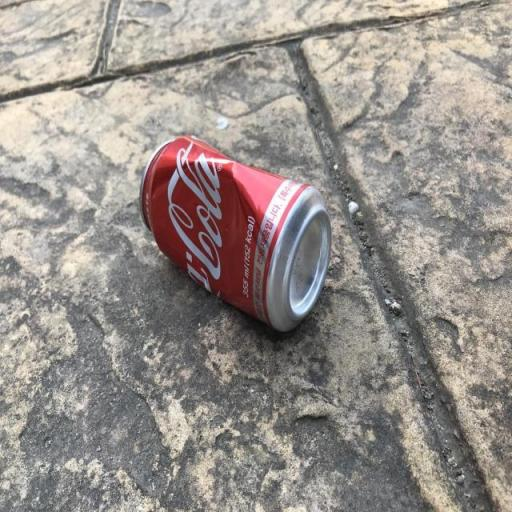metal: (131, 121, 345, 355)
